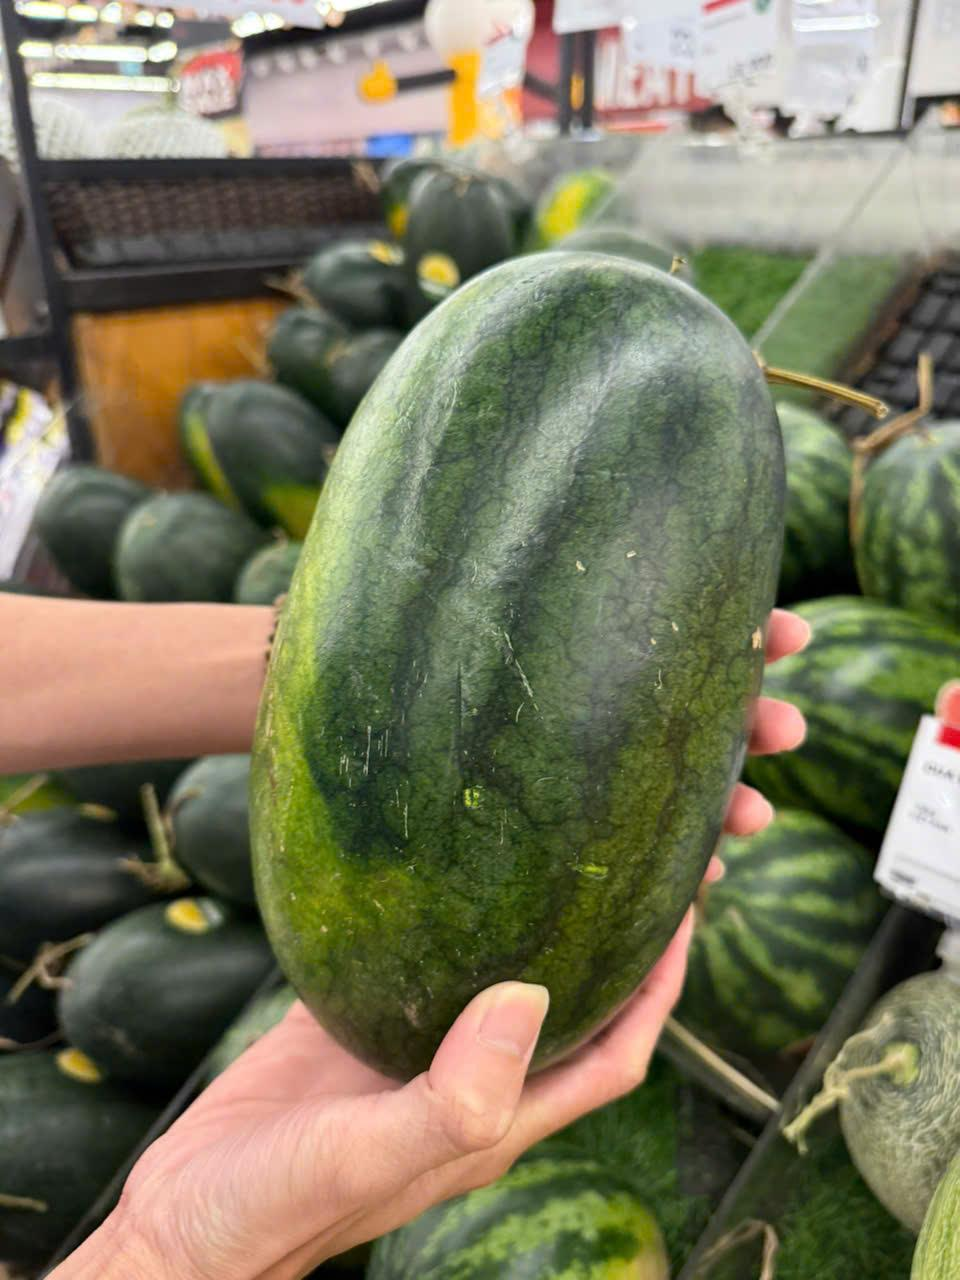watermelon: (233, 246, 778, 978)
